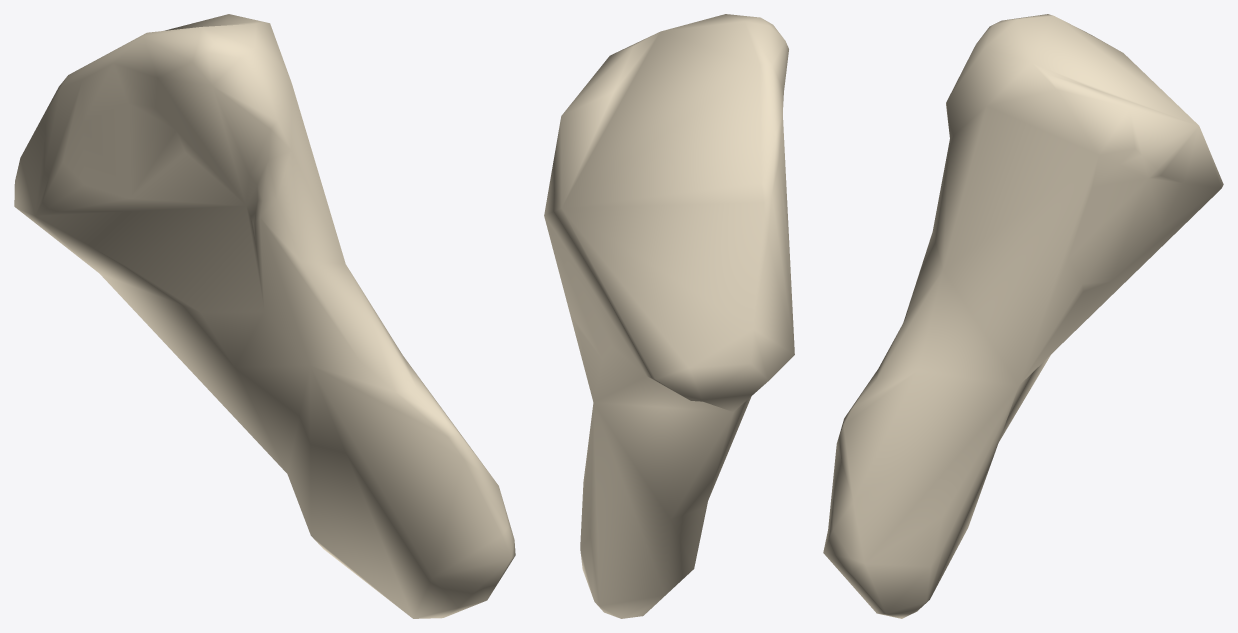
File: distal-phalanx-of-first-finger-of-hand-l.glb
The picture shows the model from 3 angles, left to right: view 1: azimuth 30°, elevation 25°; view 2: azimuth 150°, elevation 25°; view 3: azimuth 270°, elevation 25°; orthographic projection. The views are drawn at different scales.
Parts seen in each view (by area): view 1: Distal phalanx of first finger of hand.l; view 2: Distal phalanx of first finger of hand.l; view 3: Distal phalanx of first finger of hand.l.
Part boxes in pixels (x1=…): Distal phalanx of first finger of hand.l: x1=14, y1=14, x2=515, y2=618; Distal phalanx of first finger of hand.l: x1=544, y1=14, x2=794, y2=618; Distal phalanx of first finger of hand.l: x1=823, y1=14, x2=1223, y2=618.
Size of the model in its own units: 0.014 by 0.0241 by 0.0168.
